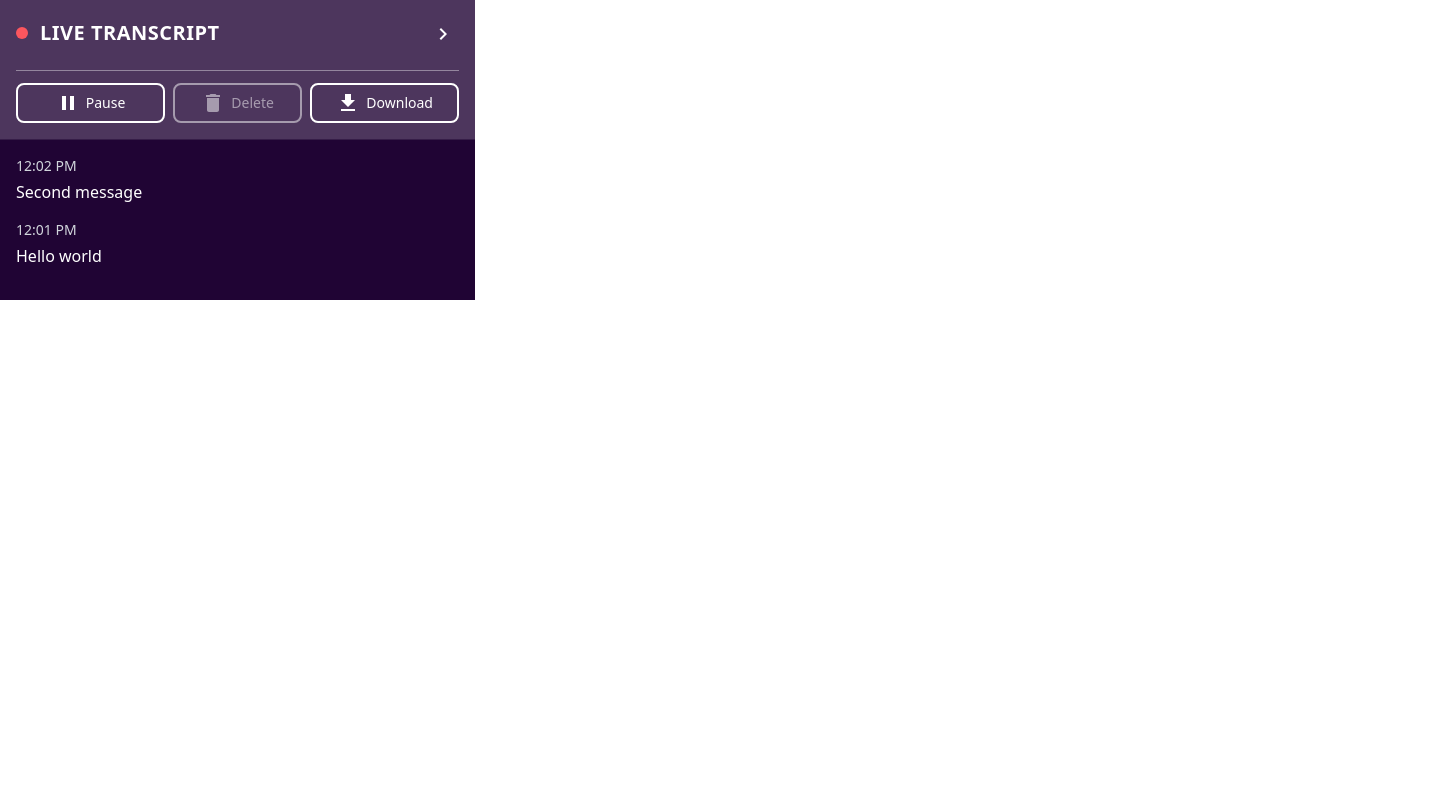
Test case: Transcript › Transcript Controls › opens confirmation modal when pause button is clicked
Click the button with aria-label "Pause recording" at [91, 103], box [16, 83, 165, 123]
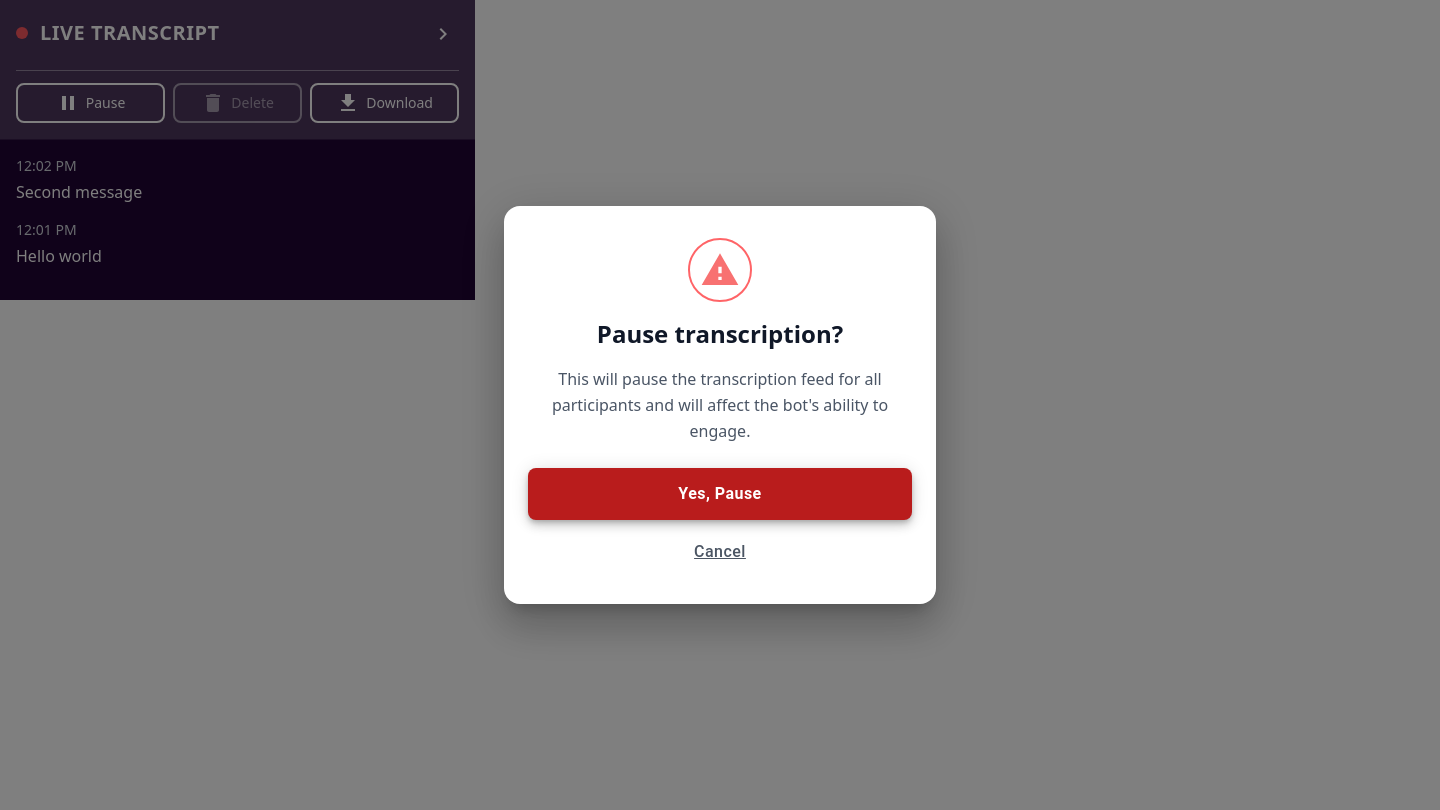
Result: the heading "Pause transcription?" is shown at [597, 318, 843, 350]
Result: the button "Yes, Pause" is shown at [528, 468, 912, 520]
